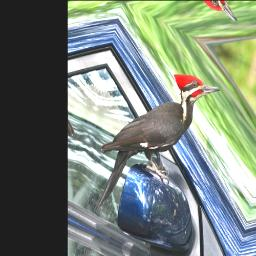Woodpecker: (83, 39, 222, 256)
